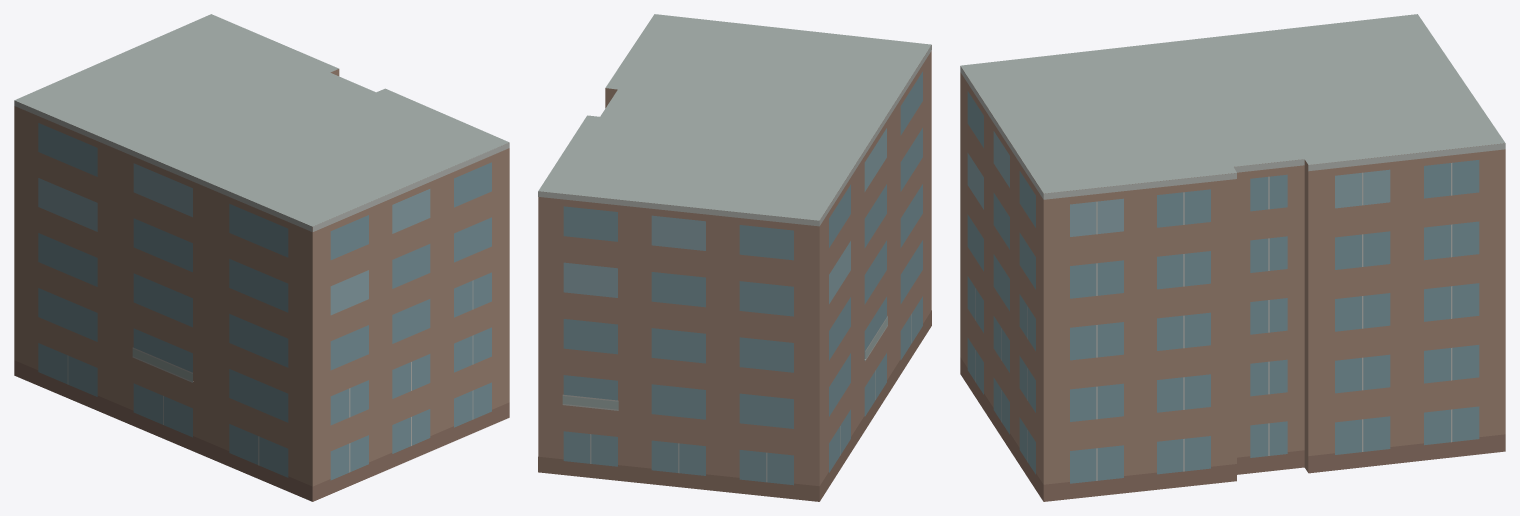
Rendered from survey-upis-32653687.glb.
3 views of the same model, side by side, from view 1: azimuth 30°, elevation 25°; view 2: azimuth 150°, elevation 25°; view 3: azimuth 270°, elevation 25° (orthographic). The views are drawn at different scales.
Visible parts, largest first — view 1: survey-upis-32653687.tmp; view 2: survey-upis-32653687.tmp; view 3: survey-upis-32653687.tmp.
Part boxes in pixels (x1=…): survey-upis-32653687.tmp: x1=14, y1=14, x2=509, y2=501; survey-upis-32653687.tmp: x1=538, y1=14, x2=931, y2=501; survey-upis-32653687.tmp: x1=960, y1=14, x2=1505, y2=501.
Size of the model in its own units: 15.19 by 12.15 by 19.49.
